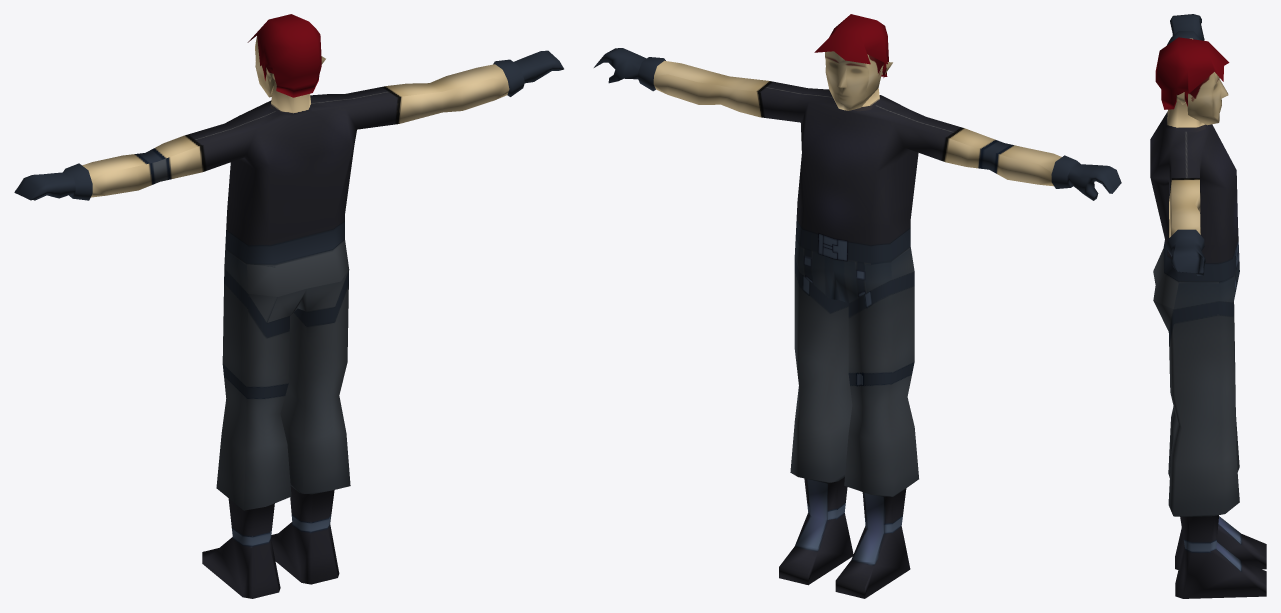
Rendered from Personaje.fbx.
3 renders of one model, left to right at view 1: azimuth 30°, elevation 25°; view 2: azimuth 150°, elevation 25°; view 3: azimuth 270°, elevation 25°, orthographic. The views are drawn at different scales.
Visible parts, largest first — view 1: arston_animations; view 2: arston_animations; view 3: arston_animations.
Boxes of the visible parts, left/top/right/bottom form: arston_animations: left=14, top=14, right=563, bottom=598; arston_animations: left=594, top=14, right=1121, bottom=598; arston_animations: left=1150, top=14, right=1266, bottom=598.
Size of the model in its own units: 368 by 365 by 72.26.
1 material, 1 textured.
